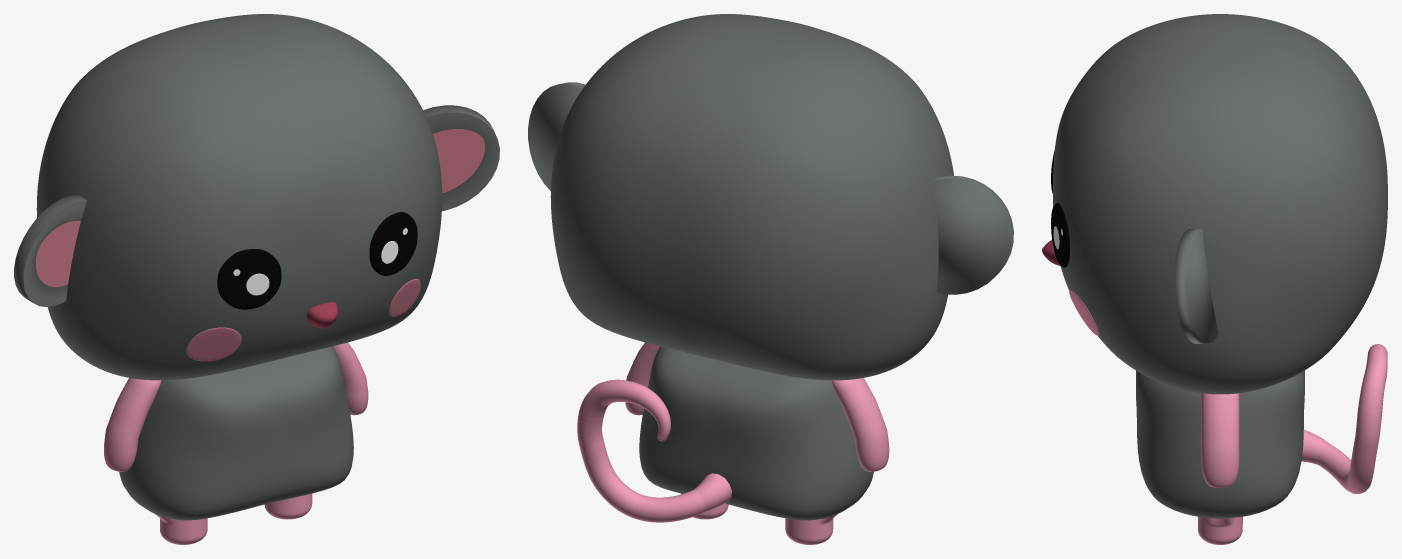
Rendered from 07-03_Japanmakak.glb.
3 renders of one model, left to right at view 1: azimuth 30°, elevation 25°; view 2: azimuth 150°, elevation 25°; view 3: azimuth 270°, elevation 25°, orthographic. The views are drawn at different scales.
Parts seen in each view (by area): view 1: Cube, Cube.001, Cylinder.003, Plane.002, Cylinder.001, Plane.001, Cylinder, Plane.003, Cube.005; view 2: Cube, Cube.001, Cylinder.003, BézierCurve, Cylinder.001, Cylinder; view 3: Cube, Cube.001, BézierCurve, Cylinder.003, Cylinder.001, Cylinder, Plane.002, Plane.001.
Boxes of the visible parts, bbox=[...] form: Cube: bbox=[36, 14, 442, 380]; Cube.001: bbox=[119, 346, 353, 520]; Cylinder.003: bbox=[14, 105, 499, 306]; Plane.002: bbox=[217, 212, 417, 309]; Cylinder.001: bbox=[104, 342, 368, 471]; Plane.001: bbox=[186, 279, 420, 361]; Cylinder: bbox=[156, 493, 312, 544]; Plane.003: bbox=[246, 241, 398, 295]; Cube.005: bbox=[306, 302, 338, 328]; Cube: bbox=[550, 14, 953, 380]; Cube.001: bbox=[639, 346, 873, 520]; Cylinder.003: bbox=[528, 82, 1013, 294]; BézierCurve: bbox=[577, 379, 731, 522]; Cylinder.001: bbox=[625, 342, 889, 471]; Cylinder: bbox=[681, 493, 837, 544]; Cube: bbox=[1053, 14, 1387, 394]; Cube.001: bbox=[1136, 370, 1304, 518]; BézierCurve: bbox=[1301, 344, 1387, 493]; Cylinder.003: bbox=[1174, 228, 1218, 343]; Cylinder.001: bbox=[1201, 393, 1239, 487]; Cylinder: bbox=[1198, 516, 1242, 544]; Plane.002: bbox=[1051, 151, 1069, 267]; Plane.001: bbox=[1069, 290, 1098, 335].
Bounding box in the file's own units: 6.22 × 5.99 × 3.98.
